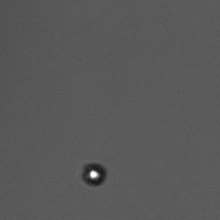Living Cell: (80, 159, 110, 188)
